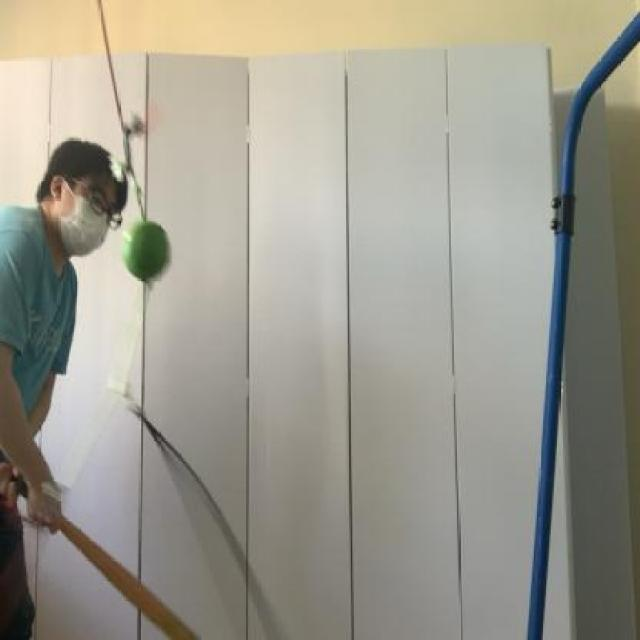baseball: (116, 214, 182, 292)
